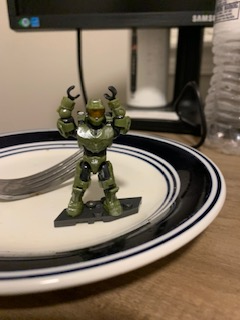chief: (53, 82, 129, 218)
spartan: (51, 80, 127, 216)
up: (54, 78, 125, 153)
